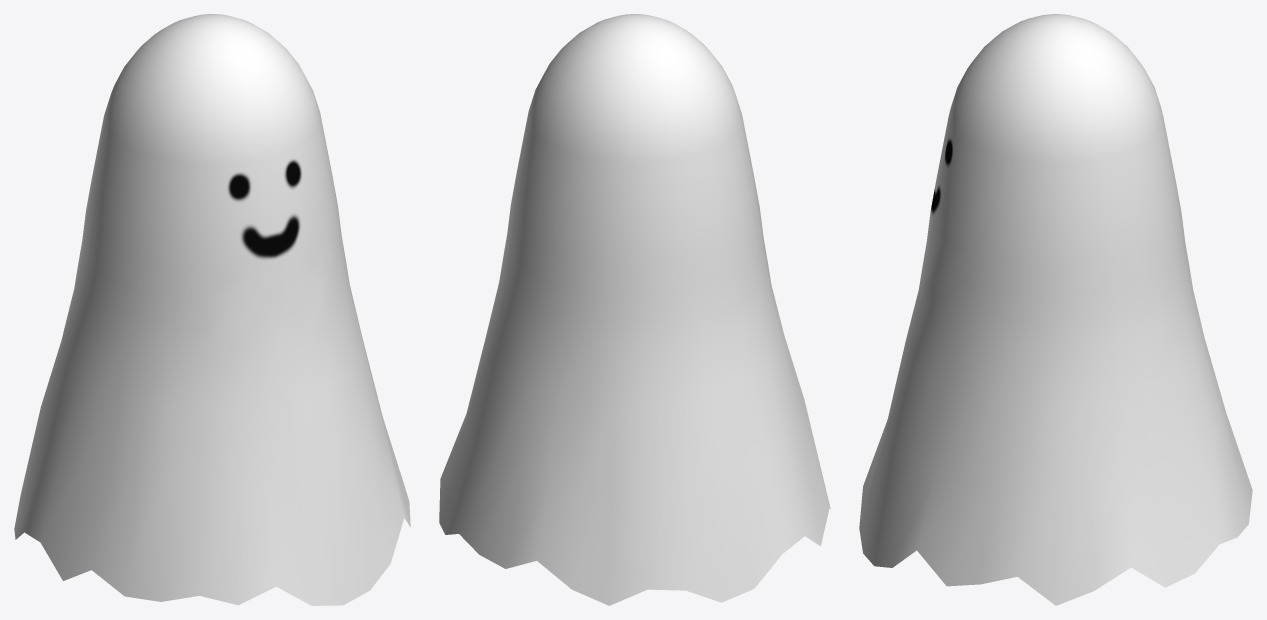
File: Ghost.fbx
The picture shows the model from 3 angles, left to right: view 1: azimuth 30°, elevation 25°; view 2: azimuth 150°, elevation 25°; view 3: azimuth 270°, elevation 25°; orthographic projection.
Visible parts, largest first — view 1: Ghost; view 2: Ghost; view 3: Ghost.
Part boxes in pixels (x1=…): Ghost: x1=14, y1=14, x2=410, y2=605; Ghost: x1=439, y1=14, x2=830, y2=605; Ghost: x1=859, y1=14, x2=1252, y2=605.
Size of the model in its own units: 310 by 448 by 310.
Materials: 1 (1 with a texture image).
